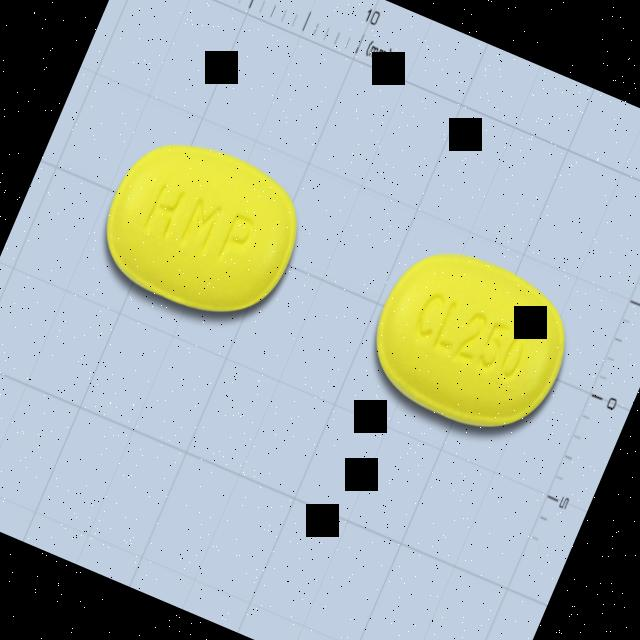Clari - 500mg: (350, 226, 592, 456), (82, 116, 322, 342)
